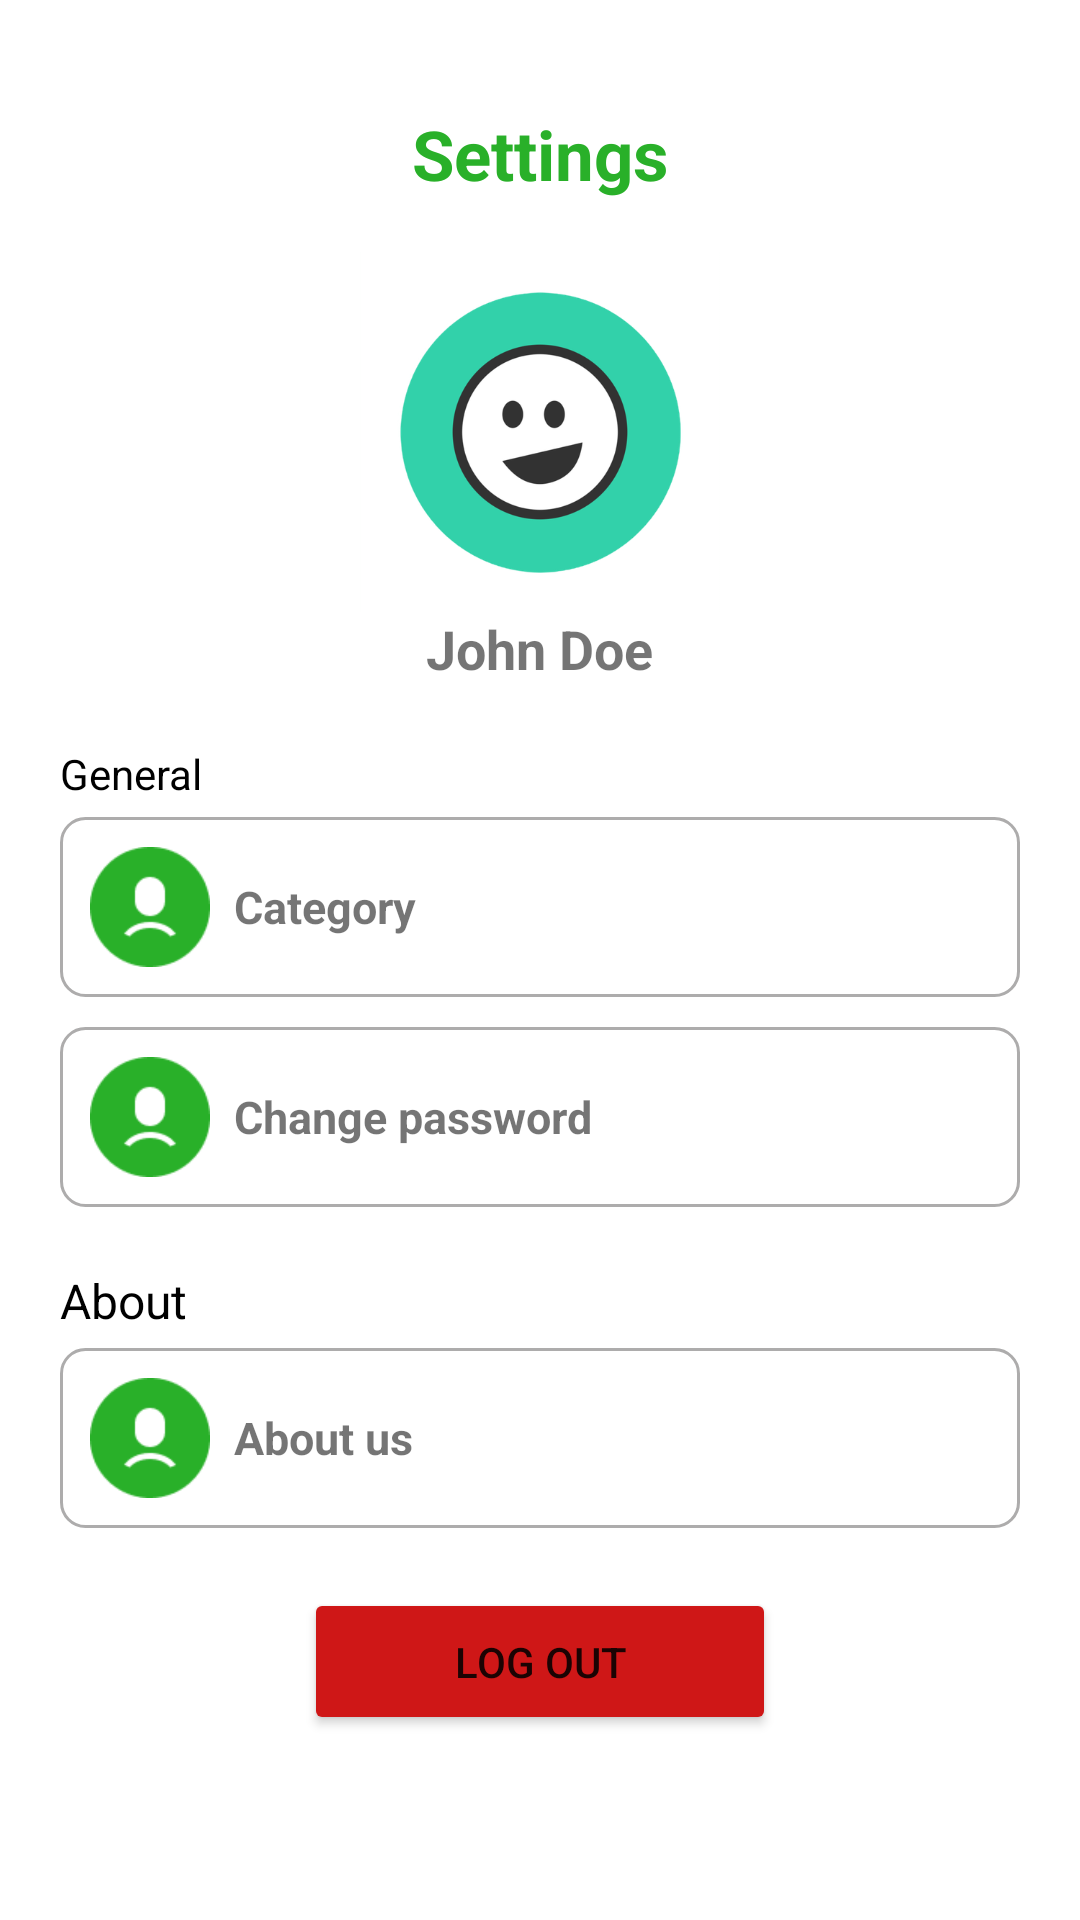

Icons on this 1080 × 1920 Android screen, each with the point to tap as [x,y]:
account: [150,907], [150,1117], [150,1438]
